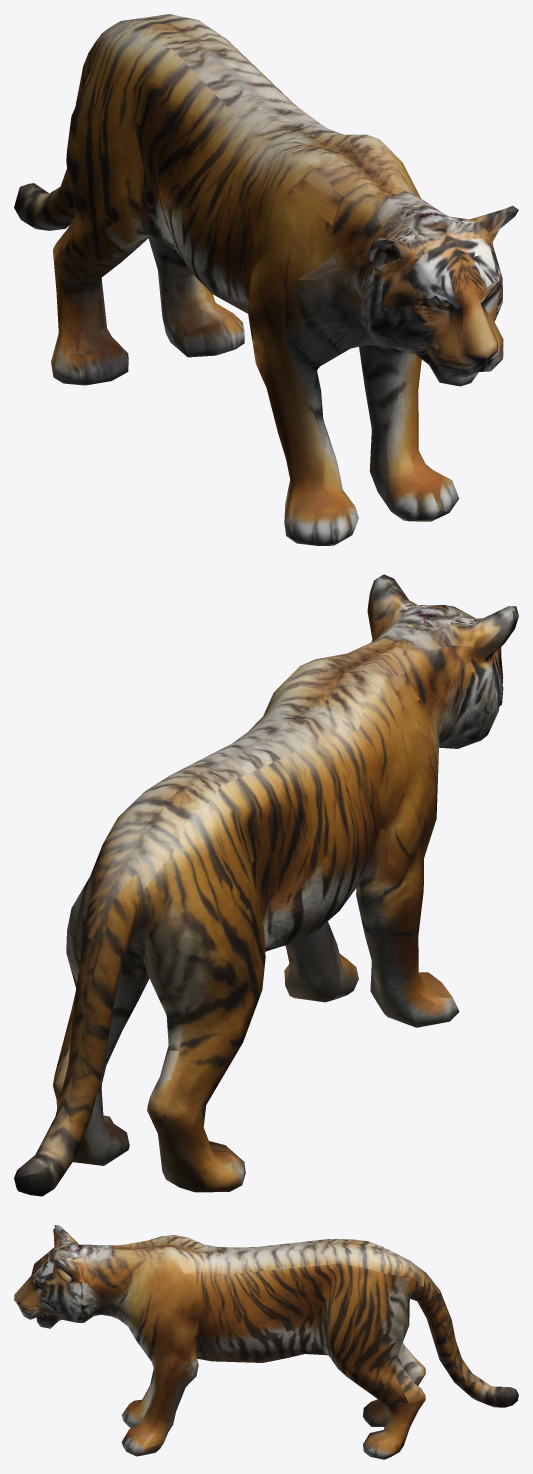
The model's file is a_realistic_tiger__0118134023_texture.glb.
3 renders of one model, top to bottom at view 1: azimuth 30°, elevation 25°; view 2: azimuth 150°, elevation 25°; view 3: azimuth 270°, elevation 25°, orthographic. The views are drawn at different scales.
Visible parts, largest first — view 1: Mesh1_Mesh1.007; view 2: Mesh1_Mesh1.007; view 3: Mesh1_Mesh1.007.
Boxes of the visible parts, x1,y1,x2,y2 form: Mesh1_Mesh1.007: [14, 14, 518, 545]; Mesh1_Mesh1.007: [14, 574, 518, 1196]; Mesh1_Mesh1.007: [14, 1225, 518, 1459].
Bounding box in the file's own units: 0.4681 × 0.8553 × 2.
1 material, 1 textured.
